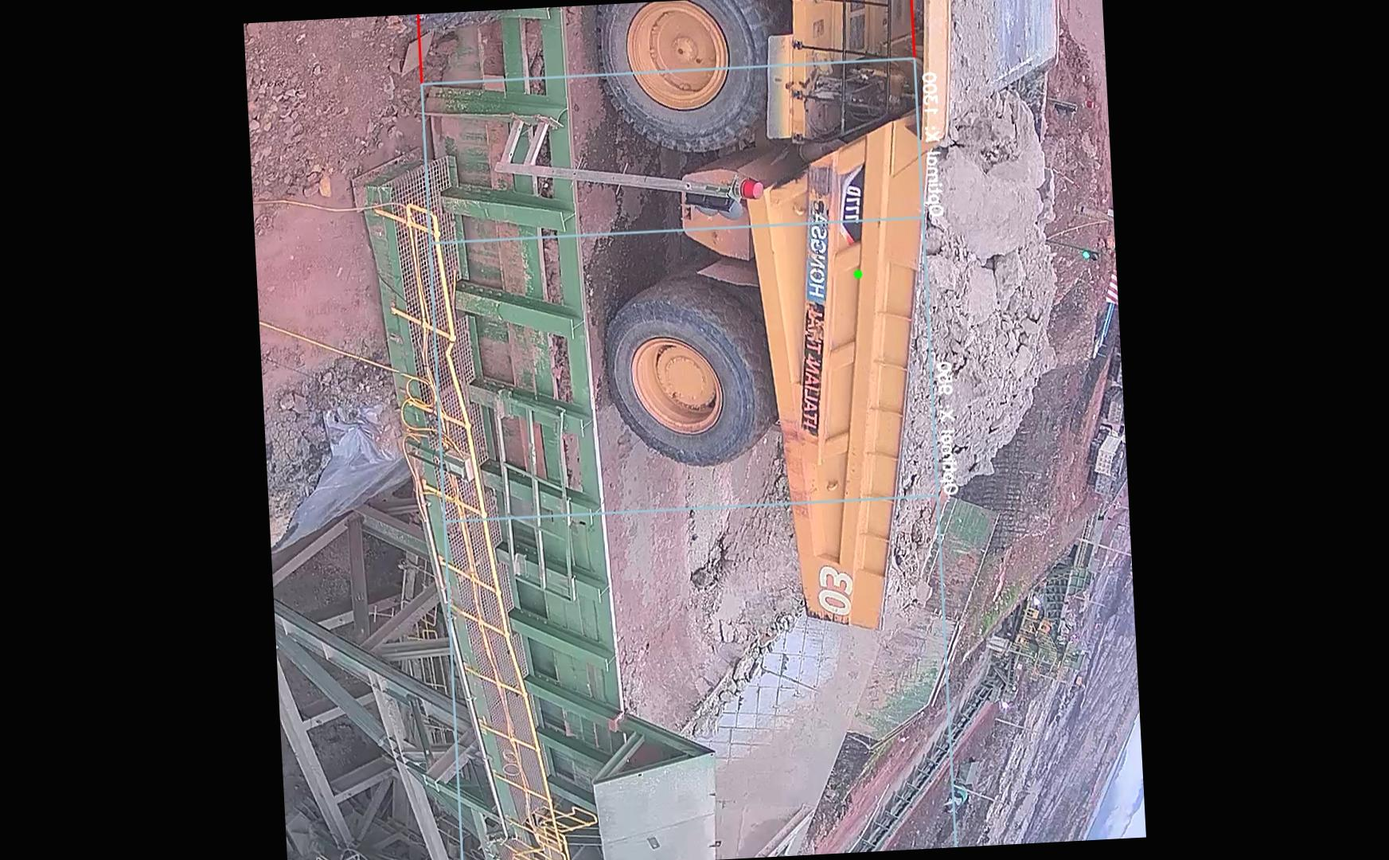company: (784, 195, 843, 444)
full_load: (892, 96, 1072, 459)
mining_truck: (590, 0, 1106, 655)
tail_number: (807, 554, 867, 625)
truck_size: (837, 157, 871, 252)
